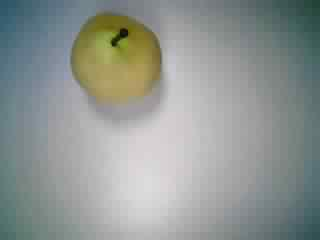pear: (59, 8, 164, 111)
